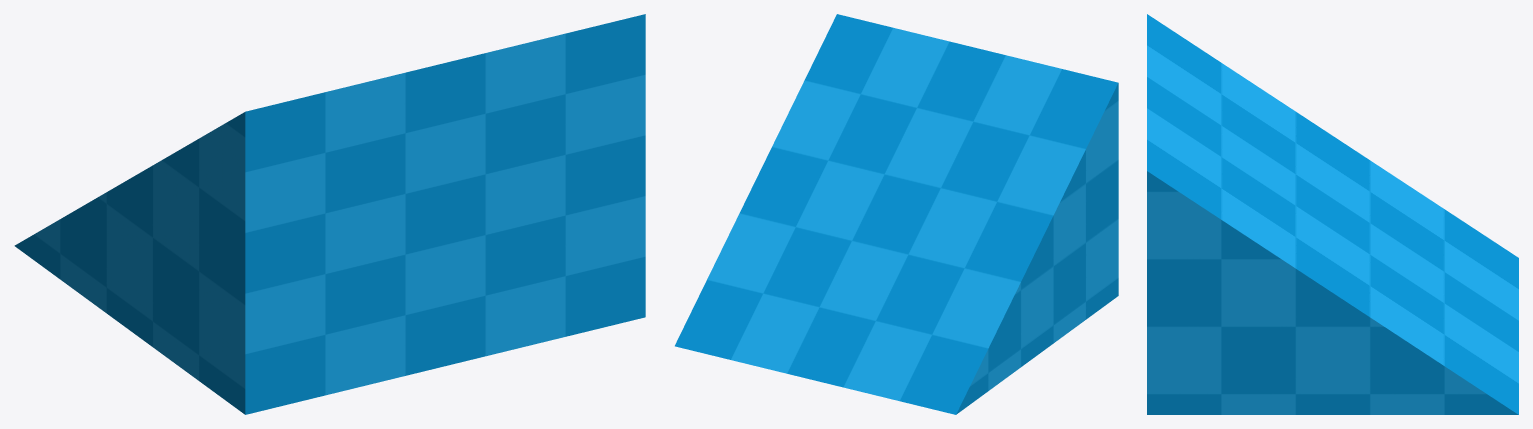
The model's file is prism264.FBX.
3 renders of one model, left to right at view 1: azimuth 30°, elevation 25°; view 2: azimuth 150°, elevation 25°; view 3: azimuth 270°, elevation 25°, orthographic. The views are drawn at different scales.
Parts seen in each view (by area): view 1: prism; view 2: prism; view 3: prism.
Boxes of the visible parts, x1,y1,x2,y2 form: prism: (14, 14, 645, 414); prism: (675, 14, 1118, 414); prism: (1147, 14, 1518, 414).
Bounding box in the file's own units: 150 × 150 × 109.
